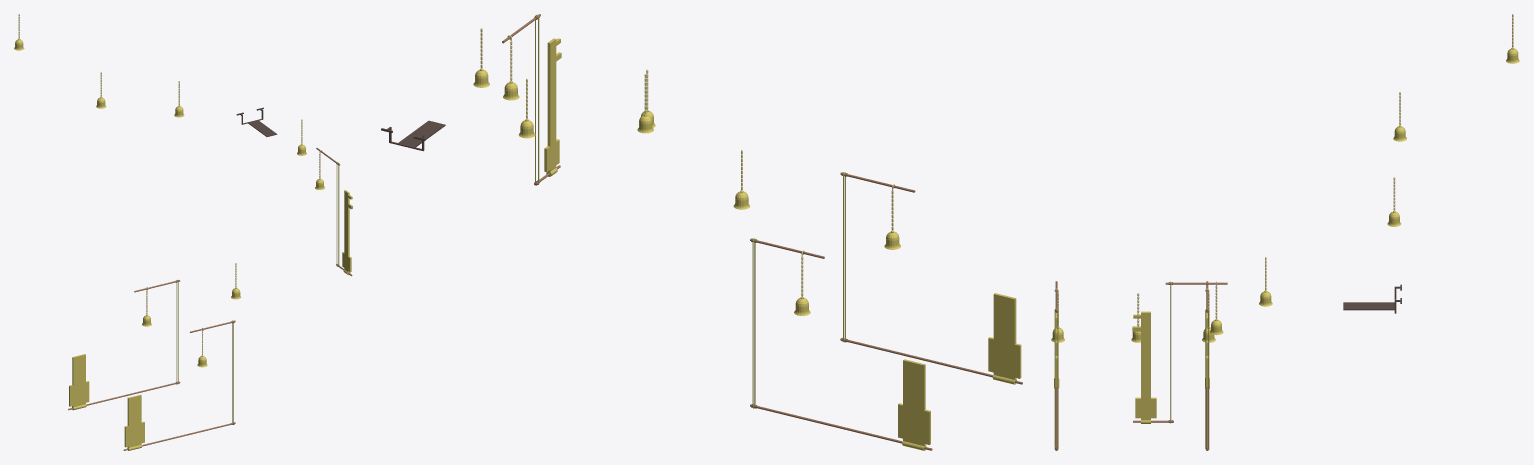
Rendered from trick2_interaction.fbx.
3 renders of one model, left to right at view 1: azimuth 30°, elevation 25°; view 2: azimuth 150°, elevation 25°; view 3: azimuth 270°, elevation 25°, orthographic. The views are drawn at different scales.
Parts seen in each view (by area): view 1: trans3_key, trans2_key, trans1_key, trans1_string; view 2: trans3_key, trans2_key, trans1_key, run_3, trans2_string; view 3: trans1_key, run_3, trans2_string, trans3_string.
Boxes of the visible parts, x1,y1,x2,y2 form: trans3_key: (124, 394, 144, 448); trans2_key: (69, 354, 89, 408); trans1_key: (342, 190, 352, 274); trans1_string: (336, 162, 339, 266); trans3_key: (988, 293, 1021, 383); trans2_key: (898, 359, 930, 449); trans1_key: (544, 38, 561, 175); run_3: (381, 120, 445, 151); trans2_string: (752, 238, 755, 408); trans1_key: (1132, 311, 1156, 420); run_3: (1343, 284, 1401, 313); trans2_string: (1205, 308, 1209, 449); trans3_string: (1054, 308, 1058, 449).
Bounding box in the file's own units: 4116 × 4416 × 4615.
